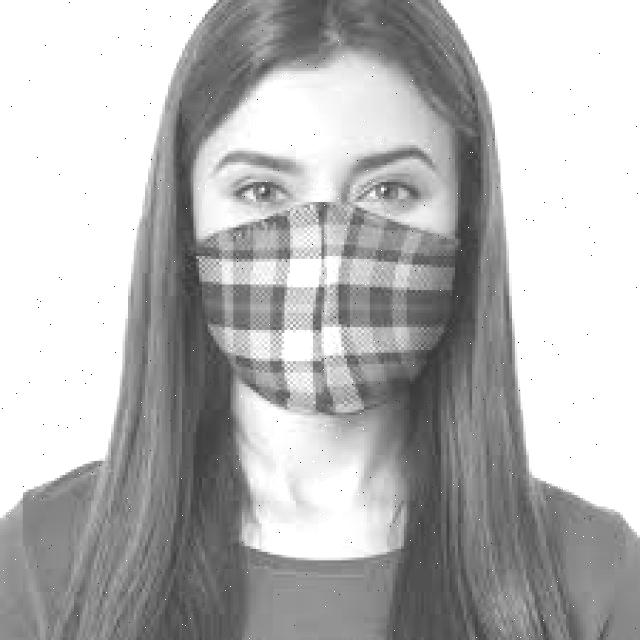fake: (156, 193, 476, 425)
real: (189, 61, 463, 427)
